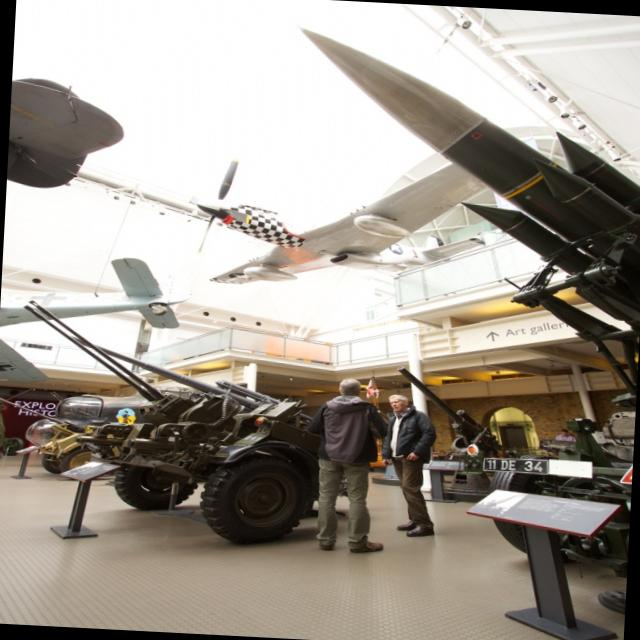rocket: (284, 24, 638, 298)
